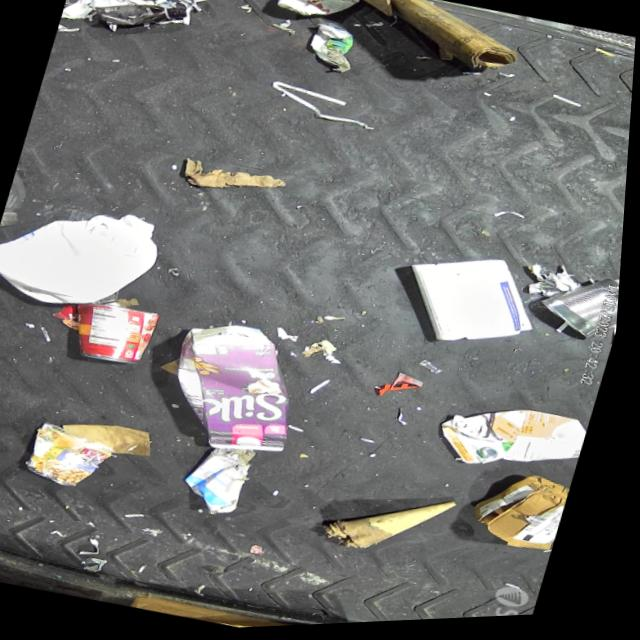can: (66, 295, 167, 374), (26, 418, 125, 497), (535, 269, 625, 353), (272, 0, 362, 30)
milk_jug: (0, 185, 173, 328)
non_white_jug: (154, 313, 322, 468), (434, 390, 598, 493)
